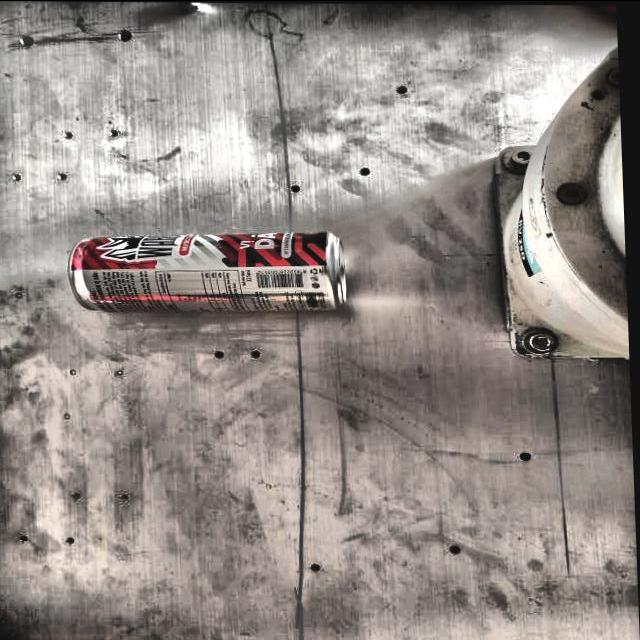litter: (66, 220, 352, 314)
